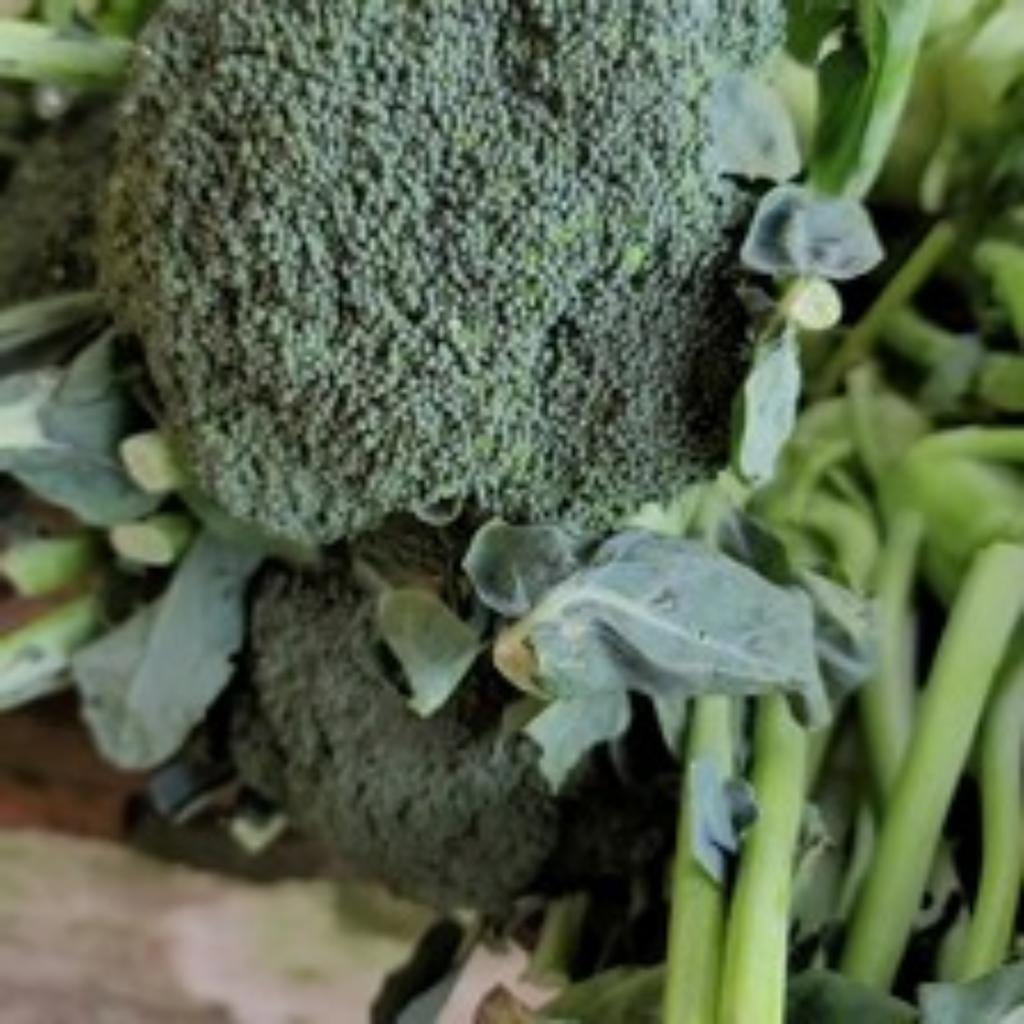Broccoli: (106, 0, 778, 541), (106, 0, 776, 541), (232, 566, 556, 910), (232, 566, 556, 910)
